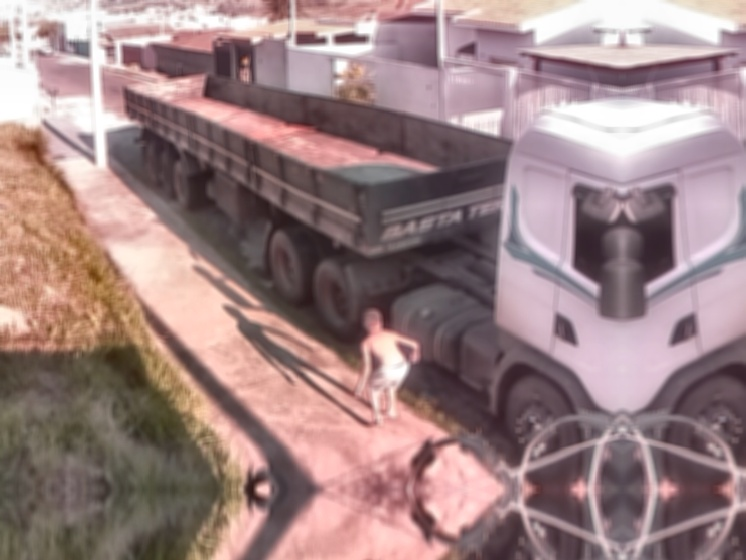person: (348, 307, 422, 560)
